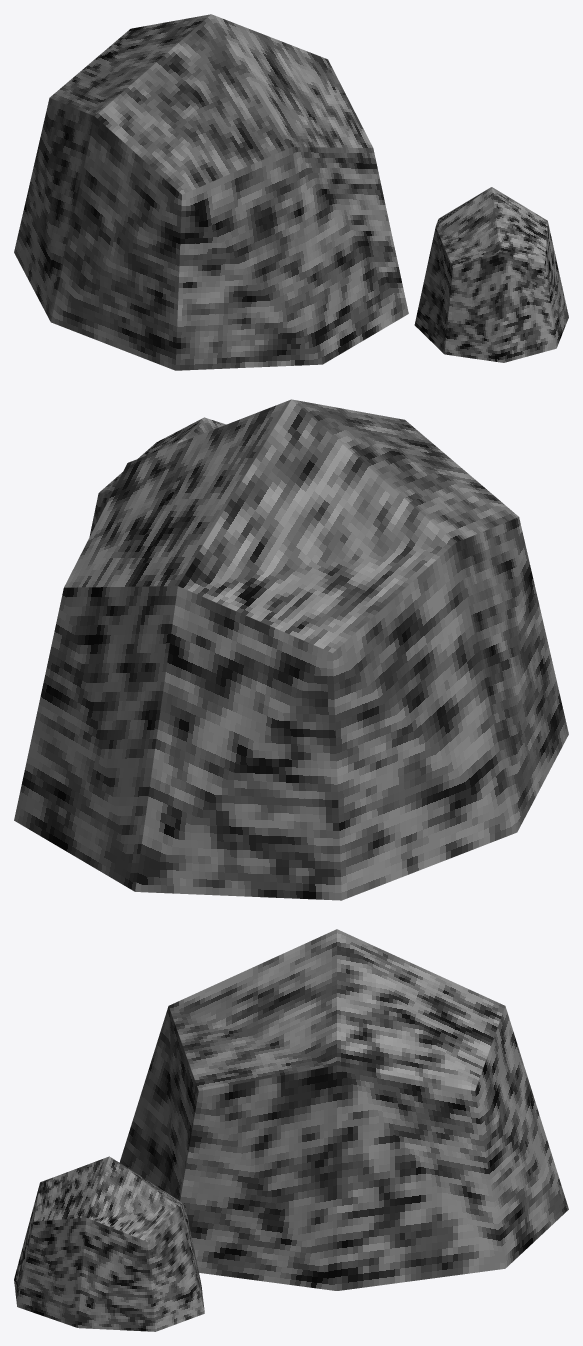
File: rock.glb
The picture shows the model from 3 angles, top to bottom: view 1: azimuth 30°, elevation 25°; view 2: azimuth 150°, elevation 25°; view 3: azimuth 270°, elevation 25°; orthographic projection. The views are drawn at different scales.
Visible parts, largest first — view 1: Cube, Cube.001; view 2: Cube, Cube.001; view 3: Cube, Cube.001.
Part boxes in pixels (left/top/right/bottom): Cube: left=14, top=14, right=408, bottom=370; Cube.001: left=414, top=187, right=568, bottom=362; Cube: left=14, top=399, right=568, bottom=900; Cube.001: left=89, top=417, right=225, bottom=536; Cube: left=119, top=929, right=568, bottom=1290; Cube.001: left=14, top=1156, right=204, bottom=1331.
Size of the model in its own units: 2.62 by 1.68 by 3.01.
Materials: 1 (1 with a texture image).
